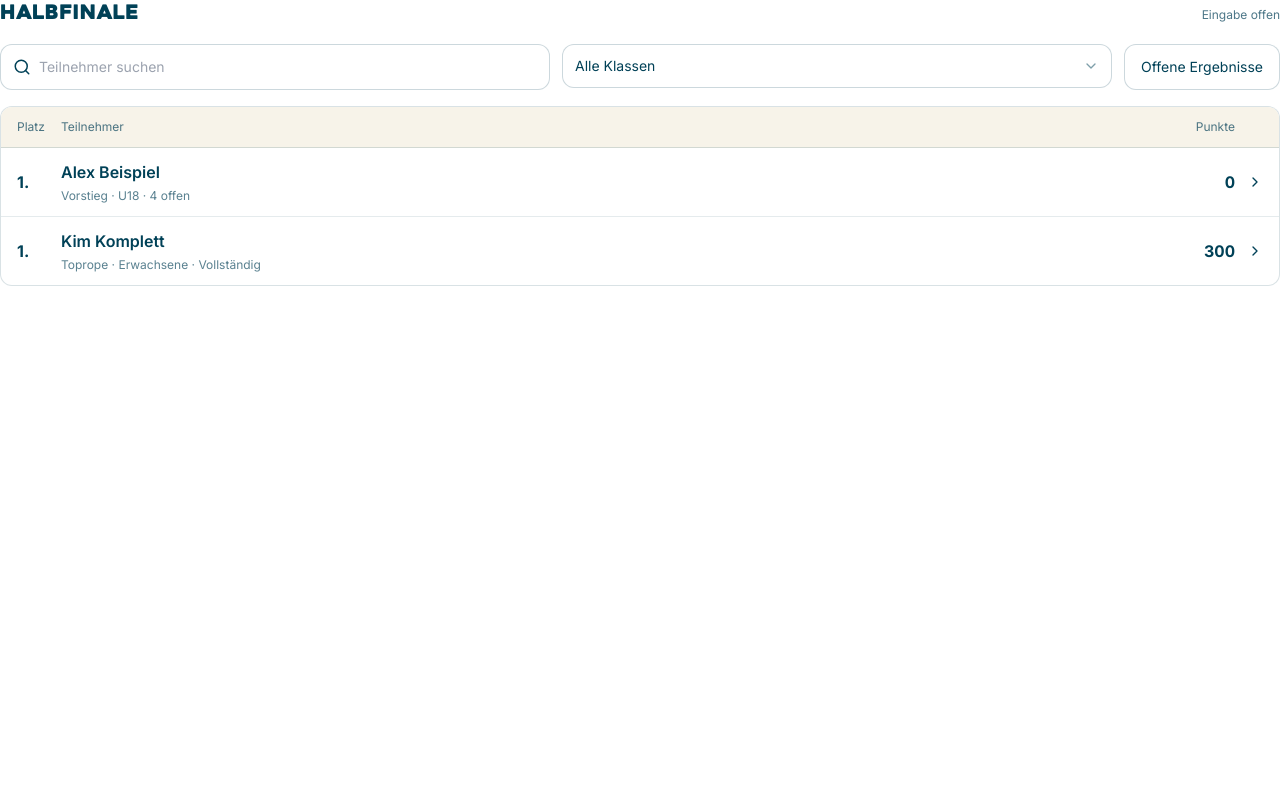
Test: participant-first semifinal administration › shows an entered zero separately from four missing routes and keeps controls in participant detail
The width and height of the screenshot is (1280, 800).
Click the button with aria-label "Alex Beispiel: 0 Punkte": (110, 172) [1,148,1279,217]
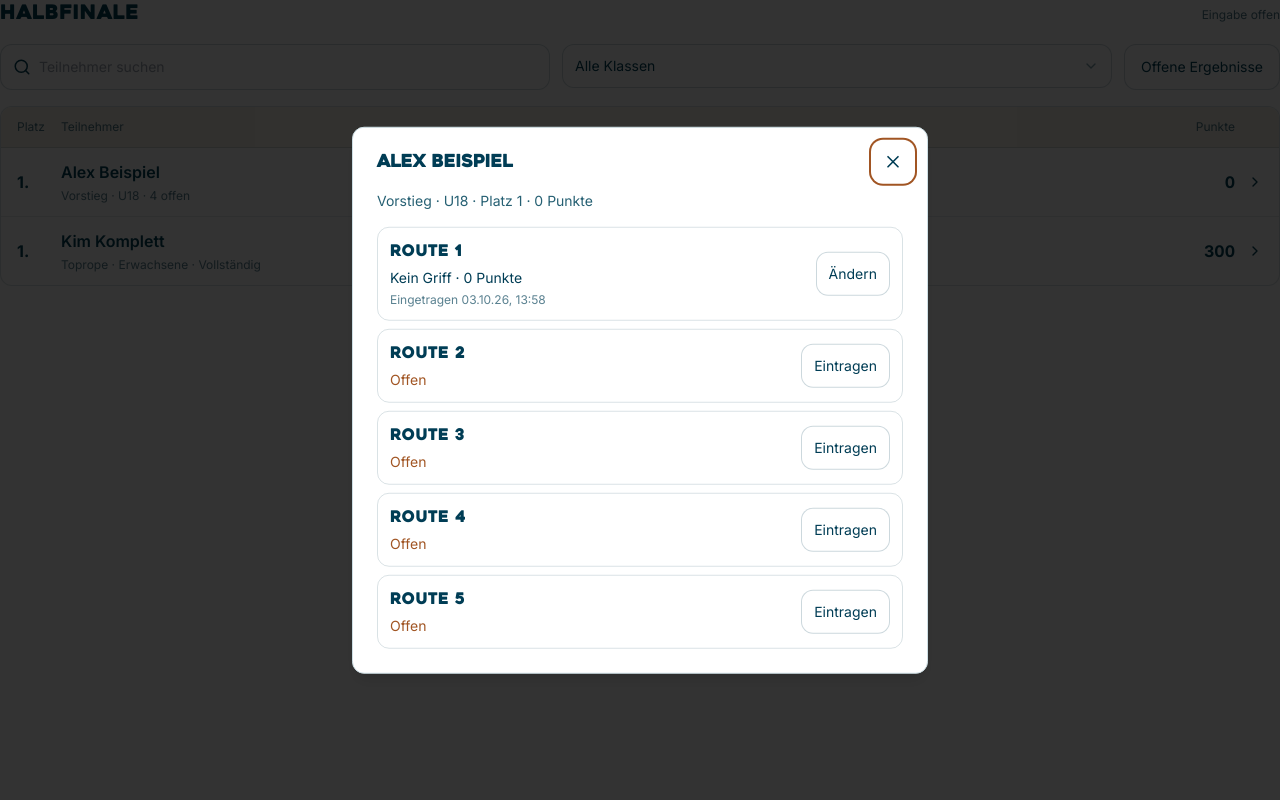
Expected: the text "Kein Griff · 0 Punkte" is shown, [390,268,522,285]
Expected: the text "Offen" is shown 4 times, [390,370,426,387]; [390,452,426,469]; [390,534,426,551]; [390,616,426,633]
Expected: the button with aria-label "Route 1: Ändern" is enabled, [816,251,890,295]
